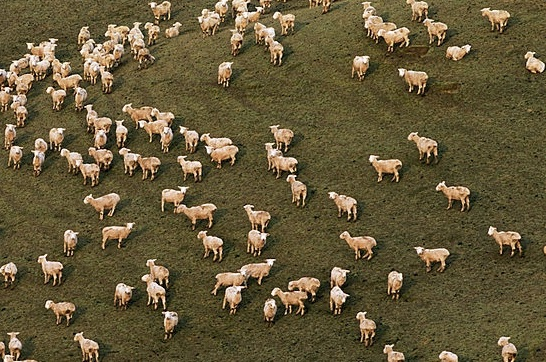sheep: (334, 228, 384, 261), (403, 126, 444, 165), (268, 281, 306, 318), (436, 181, 475, 215), (327, 190, 368, 221), (414, 245, 457, 274), (484, 224, 523, 255), (369, 155, 409, 184), (378, 25, 417, 53), (398, 68, 431, 100), (70, 331, 104, 362), (178, 201, 218, 226), (33, 252, 65, 282), (46, 298, 78, 328), (272, 151, 305, 180), (384, 266, 409, 304), (212, 268, 250, 293), (242, 255, 273, 285), (205, 144, 242, 169), (116, 147, 146, 177), (87, 147, 119, 175), (355, 309, 379, 346), (174, 152, 204, 181), (100, 218, 130, 247), (288, 271, 319, 299), (326, 284, 353, 316), (156, 187, 188, 214), (480, 6, 511, 33), (145, 259, 171, 291), (133, 152, 165, 177), (265, 32, 289, 65), (494, 331, 519, 362), (86, 193, 121, 215), (199, 134, 237, 154), (144, 273, 167, 306), (198, 231, 222, 262), (221, 282, 245, 313), (75, 163, 107, 186), (272, 9, 298, 37), (120, 103, 153, 125), (421, 18, 451, 42), (2, 327, 24, 358), (59, 147, 83, 175), (133, 119, 170, 137), (51, 73, 84, 93), (243, 231, 276, 251), (321, 262, 350, 284), (244, 203, 268, 229), (195, 7, 222, 30), (288, 173, 307, 205), (404, 1, 434, 21), (351, 51, 371, 81), (175, 126, 200, 150), (46, 126, 69, 152), (116, 286, 139, 312), (5, 143, 24, 174), (446, 41, 475, 61), (272, 127, 295, 152), (524, 51, 546, 76), (140, 23, 167, 43), (26, 149, 45, 177), (360, 11, 382, 35), (1, 261, 19, 289), (218, 55, 234, 86), (228, 27, 246, 53), (160, 127, 178, 153), (62, 227, 78, 256), (68, 85, 88, 108), (150, 1, 177, 18), (40, 37, 64, 56), (383, 344, 408, 362), (87, 127, 108, 148), (74, 25, 96, 45), (29, 59, 56, 75), (151, 106, 175, 124), (329, 284, 344, 312), (47, 82, 65, 105), (81, 102, 99, 125), (158, 309, 175, 332), (106, 24, 132, 39), (133, 49, 153, 68), (237, 9, 262, 24), (8, 68, 30, 85), (167, 21, 185, 41), (267, 143, 279, 172), (92, 56, 118, 69), (98, 70, 113, 92), (253, 18, 265, 43), (217, 1, 238, 15), (82, 56, 99, 73), (25, 39, 43, 55), (127, 31, 146, 46), (9, 90, 28, 105), (112, 41, 126, 61), (4, 121, 14, 149), (263, 298, 273, 326), (31, 139, 49, 154), (15, 104, 28, 123), (6, 59, 26, 71)
